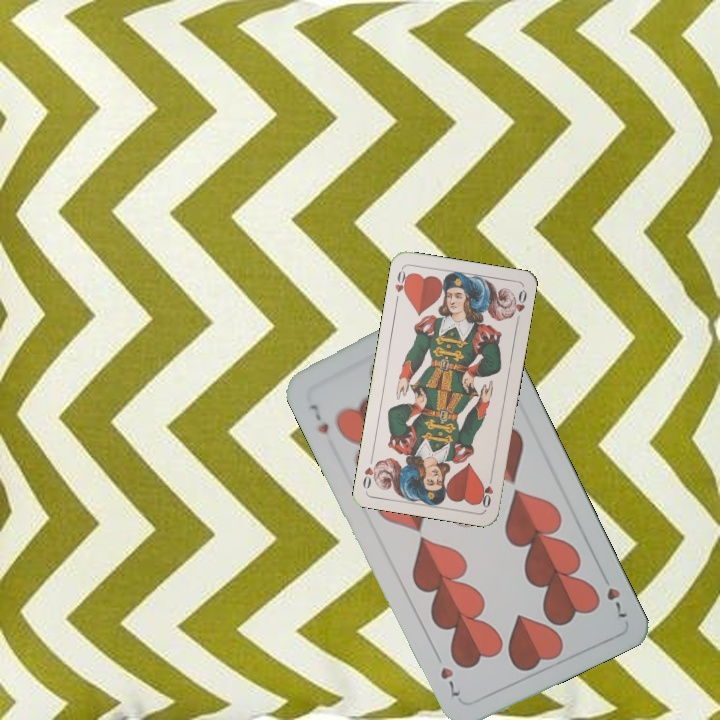H7: (602, 583, 630, 624), (305, 400, 331, 436)
HO: (391, 265, 412, 305), (477, 471, 496, 510)
